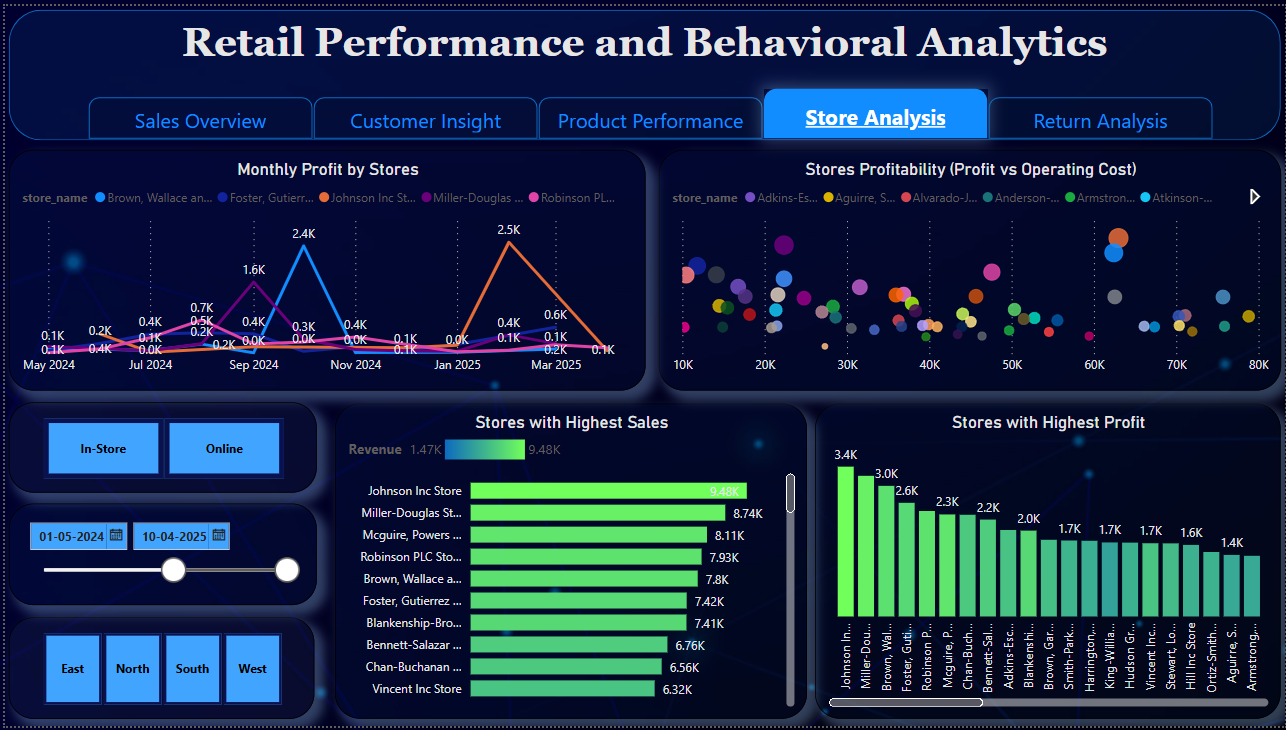

What the dashboard file says about the page in this screenshot:
{"tool":"powerbi","page":{"name":"4. Store Analysis Report","canvas":[1280,720],"ordinal":3},"visuals":[{"type":"clusteredBarChart","title":"Stores with Highest Sales ","fields":{"Category":["stores_cleaned.store_name"],"Y":["sales_cleaned.Revenue"]},"box":[330.1,397.3,471.9,315.4],"z":0},{"type":"clusteredColumnChart","title":"Stores with Highest Profit","fields":{"Category":["stores_cleaned.store_name"],"Y":["sales_cleaned.Total Profit"]},"box":[810.5,397.3,465.7,315.4],"z":1000},{"type":"scatterChart","title":"Stores Profitability (Profit vs Operating Cost)","fields":{"X":["Sum(stores_cleaned.operating_cost)"],"Series":["stores_cleaned.store_name"],"Y":["Sum(sales_cleaned.profit)"],"Size":["sales_cleaned.Total Profit"]},"box":[654,144.2,622.2,240.8],"z":2000},{"type":"lineChart","title":"Monthly Profit by Stores","fields":{"Series":["stores_cleaned.store_name"],"Category":["sales_cleaned.order_date.Variation.Date Hierarchy.Year","sales_cleaned.order_date.Variation.Date Hierarchy.Month"],"Y":["Sum(sales_cleaned.profit)"]},"box":[3.7,144.2,636.9,240.8],"z":3000},{"type":"shape","box":[3.7,3.7,1272,130.8],"z":4000},{"type":"shape","box":[83.9,91.7,223.7,41.6],"z":5000},{"type":"shape","box":[308.8,91.7,223.7,41.6],"z":6000},{"type":"shape","box":[533.8,91.7,223.7,41.6],"z":7000},{"type":"shape","box":[759.1,83.1,223.7,50.1],"z":8000},{"type":"shape","box":[983.8,91.7,223.7,41.6],"z":9000},{"type":"slicer","fields":{"Values":["customers_cleaned.region"]},"box":[3.7,611.2,305.6,101.5],"z":10000},{"type":"slicer","fields":{"Values":["sales_cleaned.sales_channel"]},"box":[3.7,396.1,308,90.5],"z":11000},{"type":"slicer","fields":{"Values":["sales_cleaned.order_date"]},"box":[3.7,497.5,308,101.5],"z":12000}]}

Visuals, with their boxes in screenshot pixels (x1, y1, x2, y2), scaled from the page's 1280x720 canvas onto the 1286x730 screenshot:
"Stores with Highest Sales " clusteredBarChart: l=332, t=403, r=806, b=723
"Stores with Highest Profit" clusteredColumnChart: l=814, t=403, r=1282, b=723
"Stores Profitability (Profit vs Operating Cost)" scatterChart: l=657, t=146, r=1282, b=390
"Monthly Profit by Stores" lineChart: l=4, t=146, r=644, b=390
shape: l=4, t=4, r=1282, b=136
shape: l=84, t=93, r=309, b=135
shape: l=310, t=93, r=535, b=135
shape: l=536, t=93, r=761, b=135
shape: l=763, t=84, r=987, b=135
shape: l=988, t=93, r=1213, b=135
slicer - customers_cleaned.region: l=4, t=620, r=311, b=723
slicer - sales_cleaned.sales_channel: l=4, t=402, r=313, b=493
slicer - sales_cleaned.order_date: l=4, t=504, r=313, b=607
